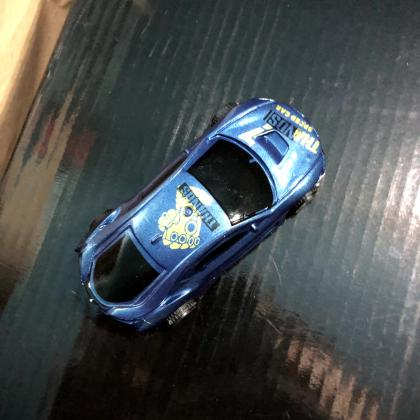Car: (73, 95, 327, 337)
